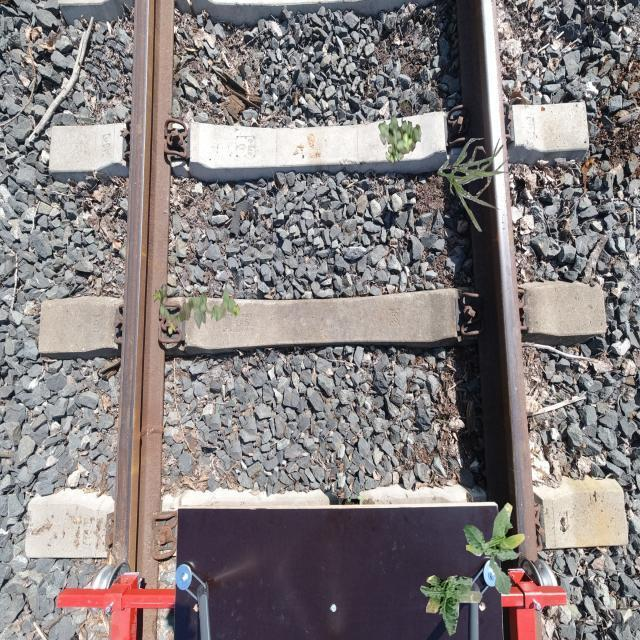Plant: (437, 138, 510, 232), (463, 502, 526, 596), (153, 283, 240, 334), (420, 575, 483, 637), (378, 115, 422, 165)
